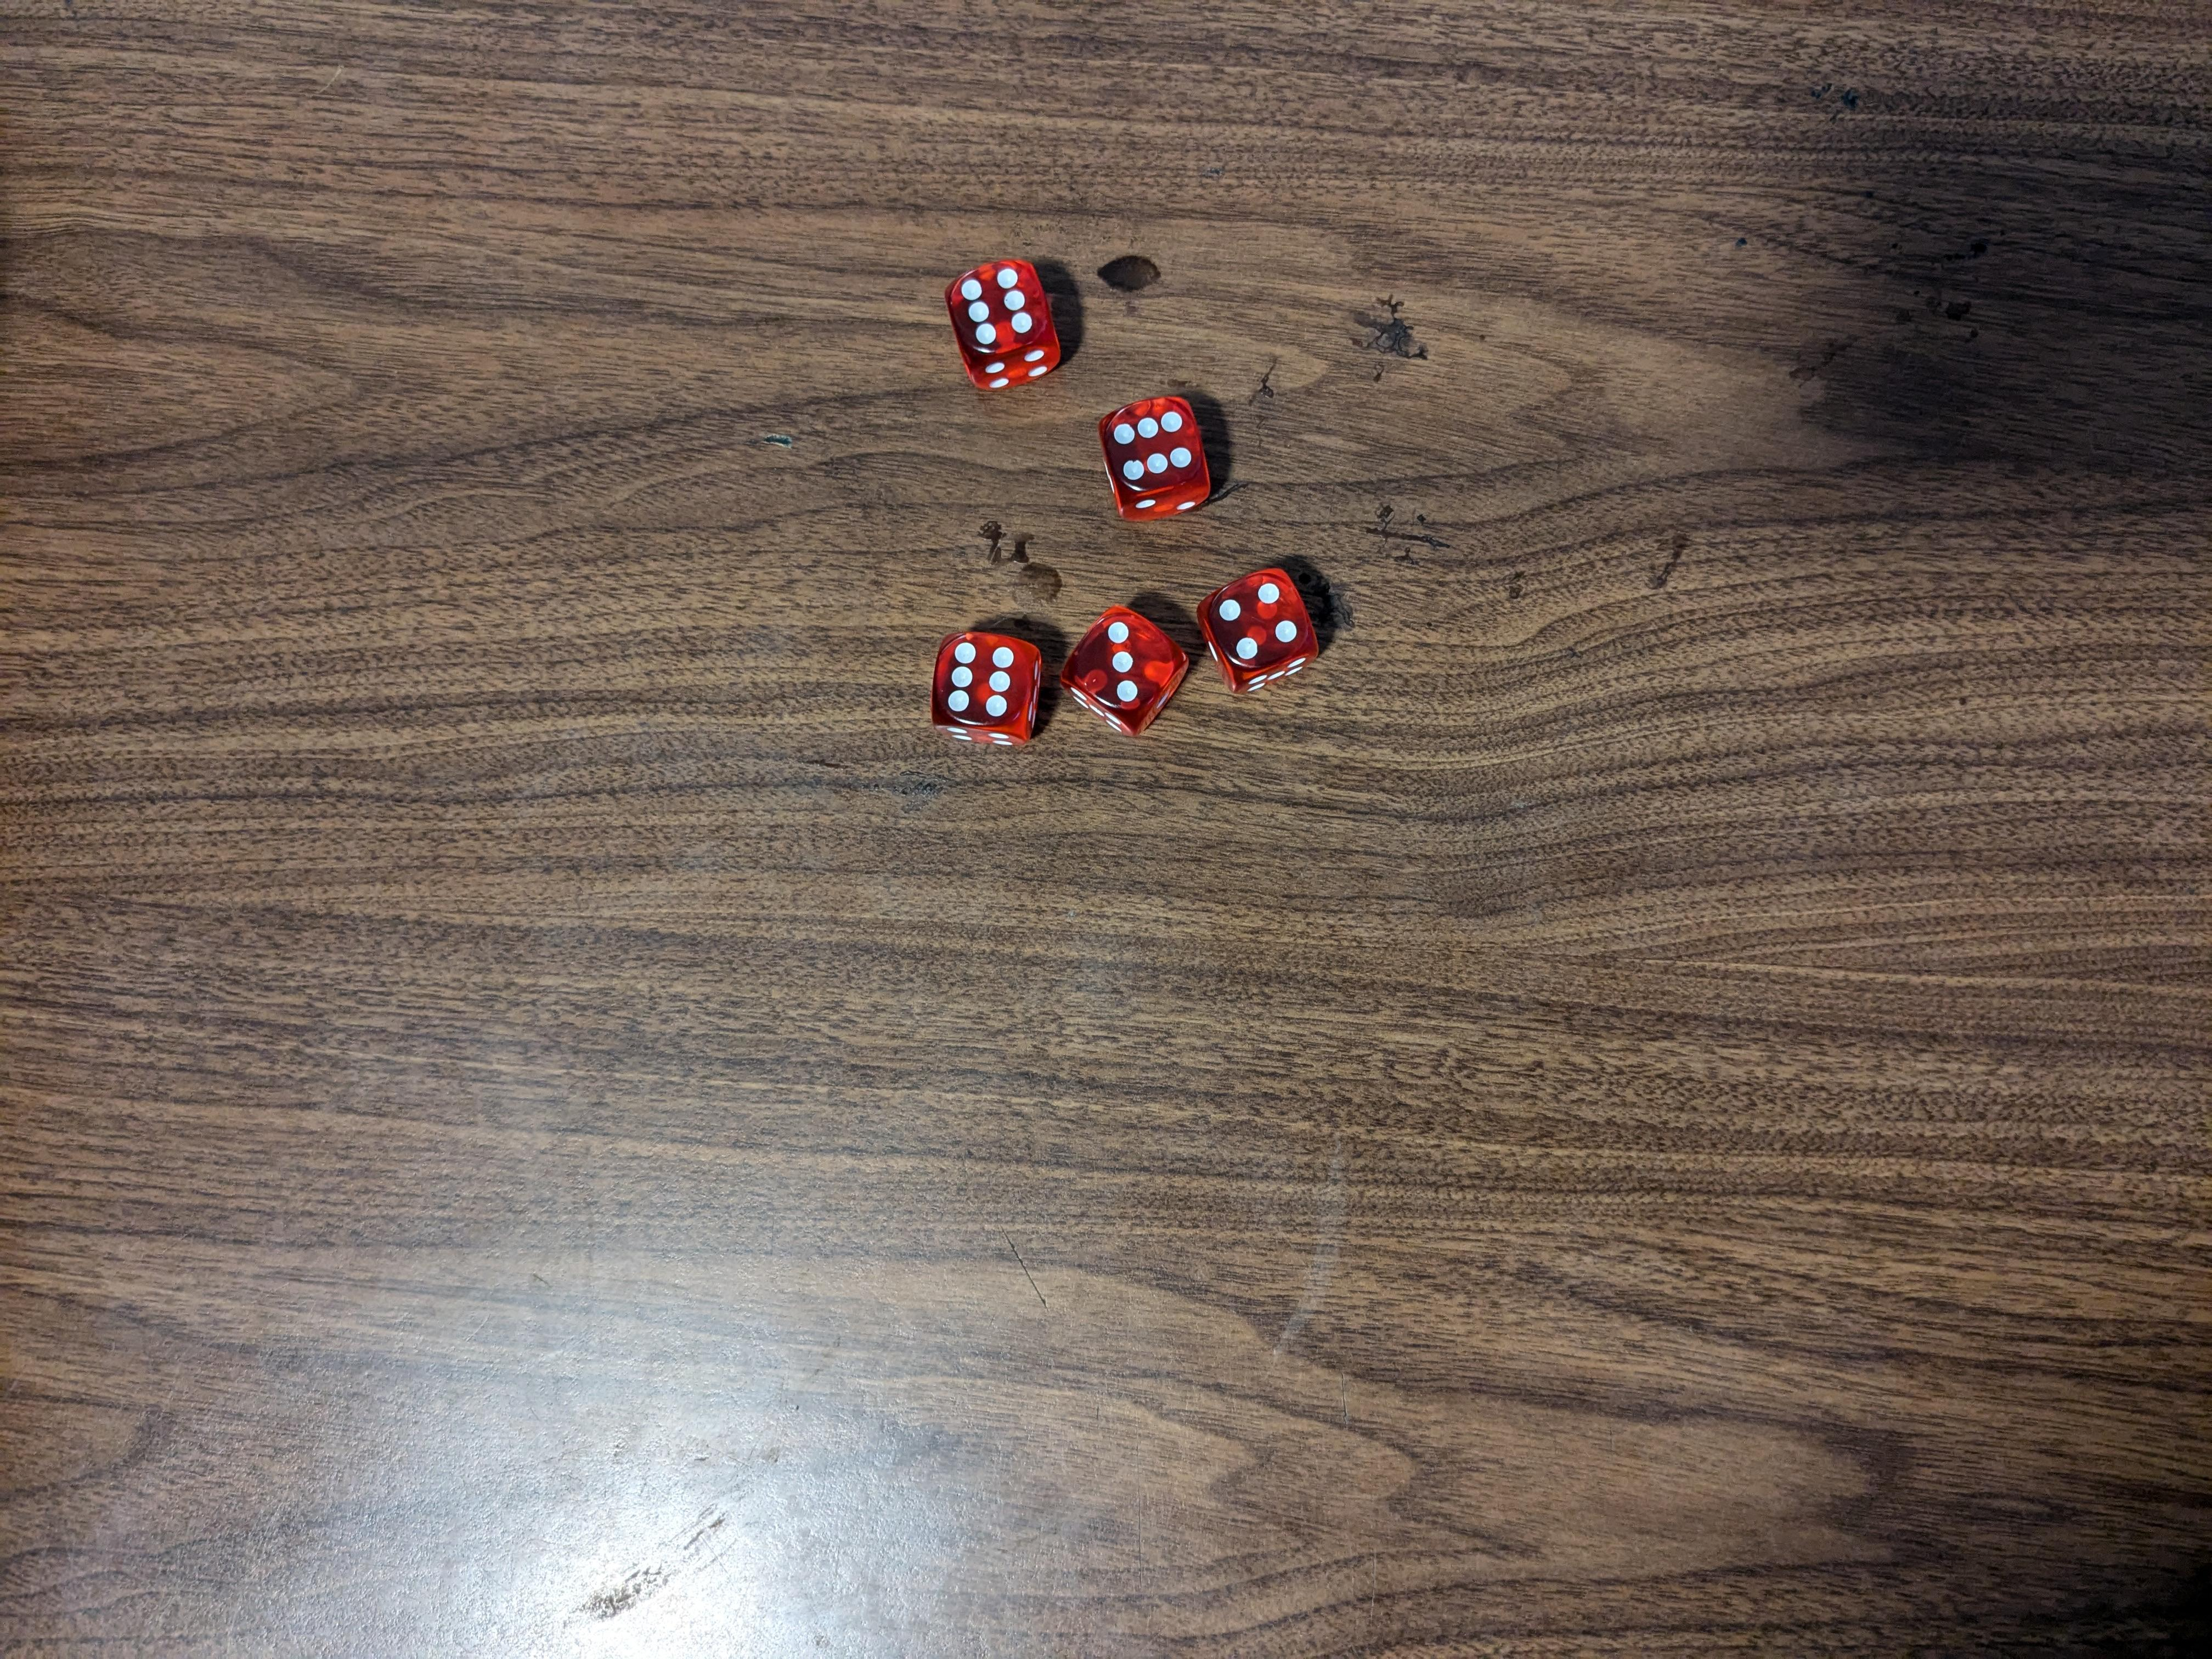four: (1202, 566, 1336, 702)
six: (951, 251, 1059, 396), (932, 615, 1054, 735), (1103, 390, 1212, 521)
three: (1062, 603, 1188, 732)
